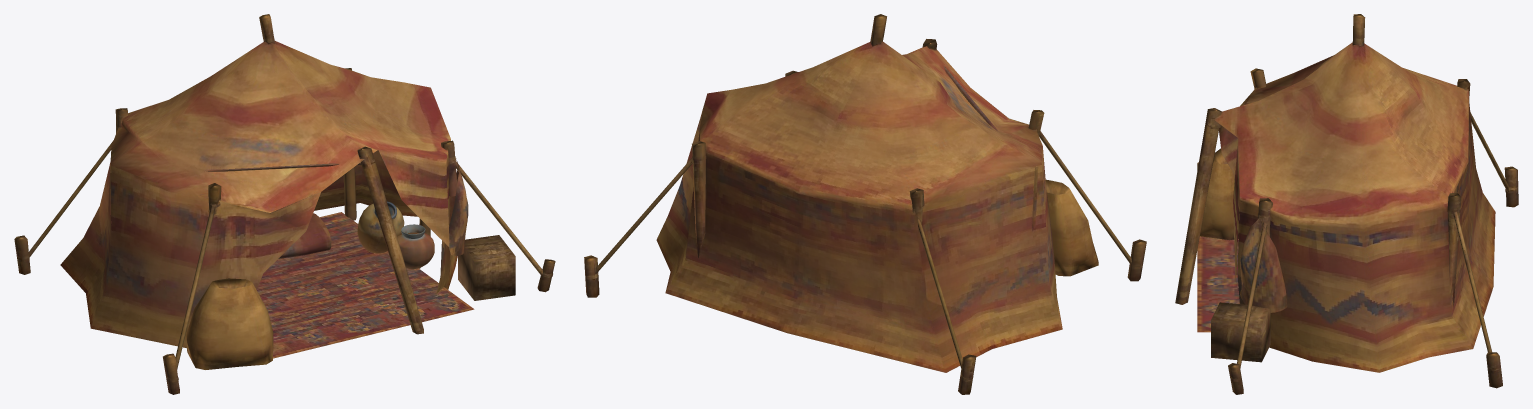
File: tripo_convert_e7bea94e-f656-4325-9af6-a87245d0e294.fbx
3 views of the same model, side by side, from view 1: azimuth 30°, elevation 25°; view 2: azimuth 150°, elevation 25°; view 3: azimuth 270°, elevation 25° (orthographic). The views are drawn at different scales.
Visible parts, largest first — view 1: tripo_node_e7bea94e; view 2: tripo_node_e7bea94e; view 3: tripo_node_e7bea94e.
Boxes of the visible parts, x1=… form: tripo_node_e7bea94e: x1=14, y1=14, x2=555, y2=394; tripo_node_e7bea94e: x1=584, y1=14, x2=1146, y2=394; tripo_node_e7bea94e: x1=1175, y1=14, x2=1518, y2=394.
Bounding box in the file's own units: 0.9995 × 0.6626 × 0.7515.
1 material, 1 textured.
